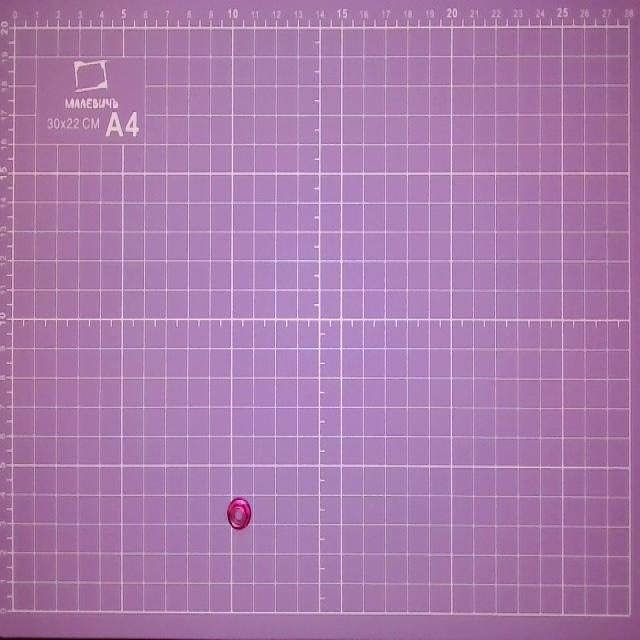screw_M5: (226, 489, 255, 539)
